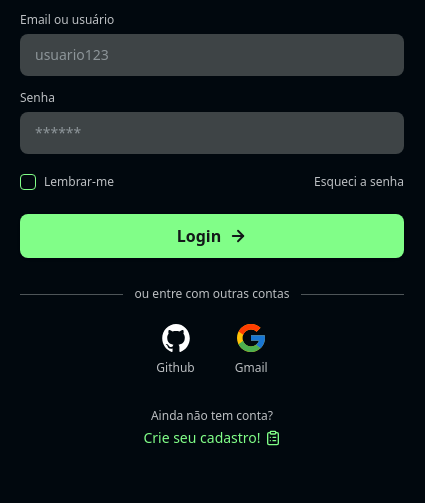
it: LoginForm organism › shows validation error messages when submitted empty
Click the button "Login".
click(212, 236)  # box [20,214,404,258]
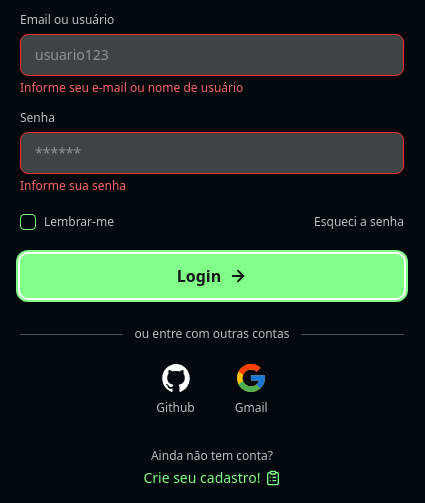
Expected: the text "Informe seu e-mail ou nome de usuário" is shown, [20,79,243,96]
Expected: the text "Informe sua senha" is shown, [20,177,126,194]
